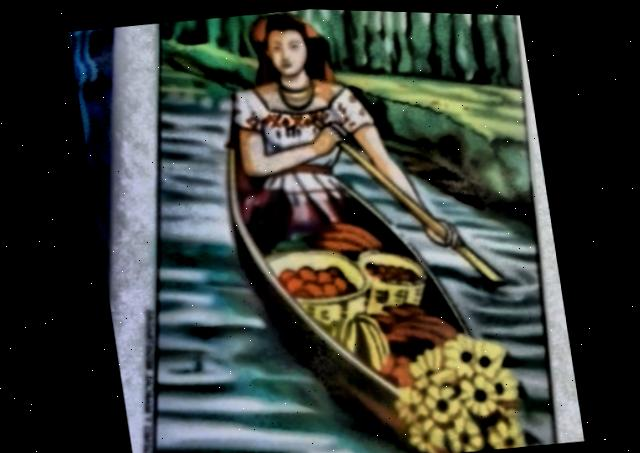La Chalupa: (150, 7, 554, 453)
